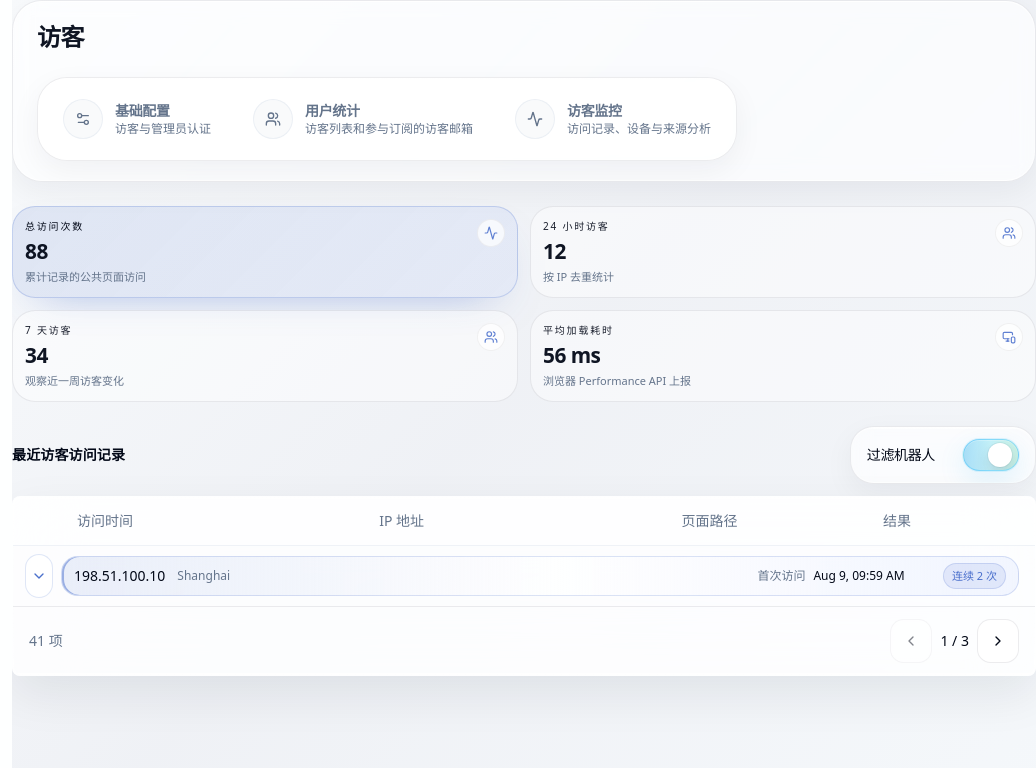
Test: VisitorMonitoringPage bot filter › returns to the first page when the filter is disabled without eager prefetch
The width and height of the screenshot is (1036, 768).
Expected: the text "88" is shown, [25, 237, 48, 265]
Click the 3rd button: [998, 641] box [977, 619, 1019, 663]
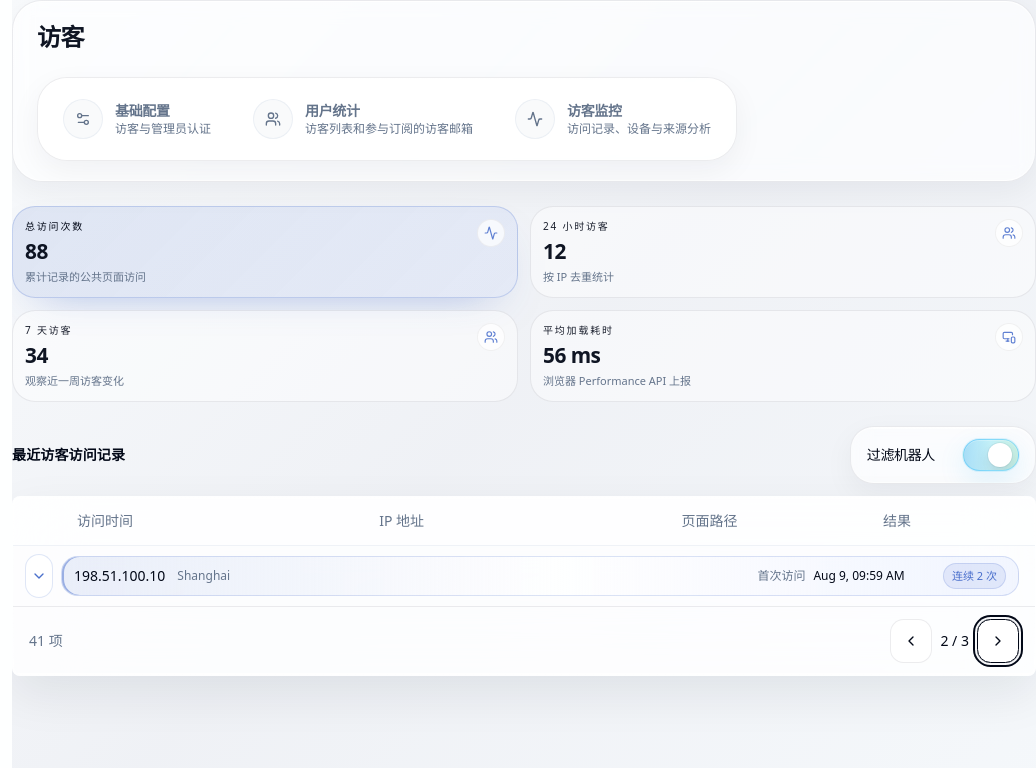
Click the switch named "过滤机器人": [991, 455] box [963, 439, 1019, 471]
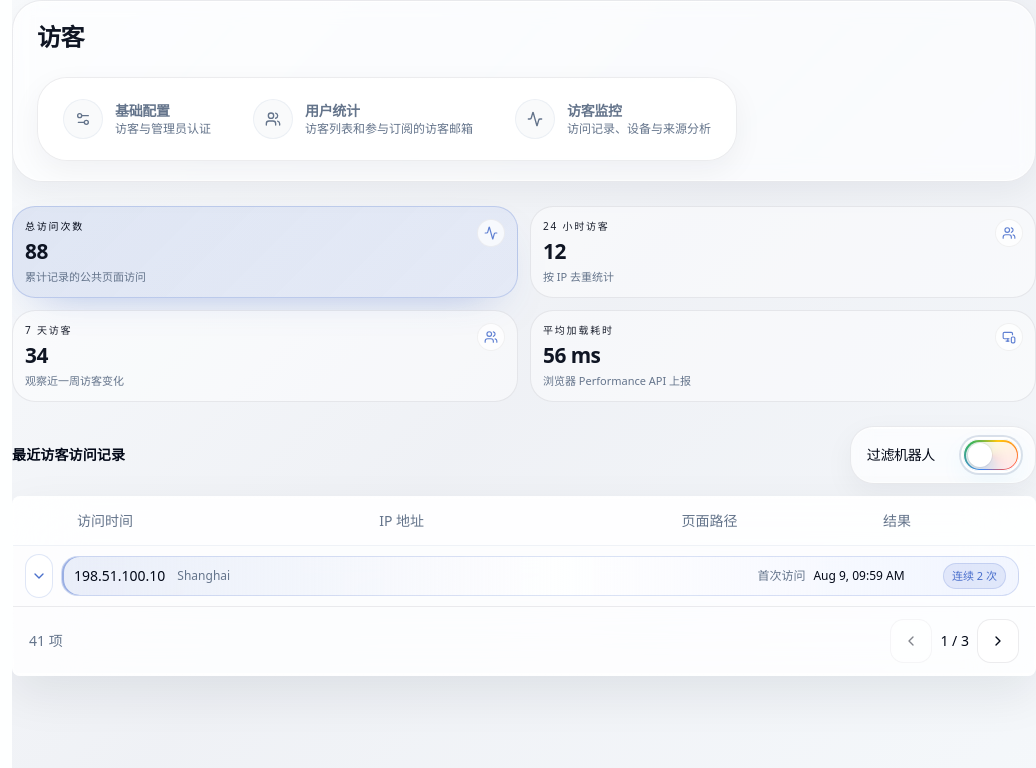
Expected: the text "88" is shown, [25, 237, 48, 265]
Expected: the text "1 / 3" is shown, [940, 631, 969, 651]
